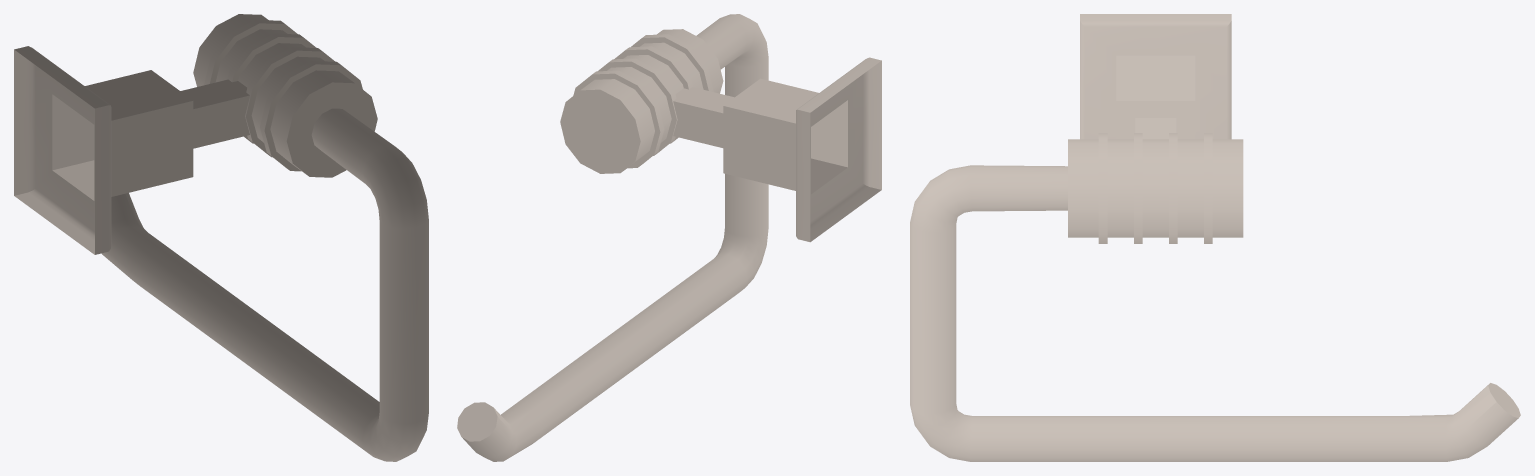
The model's file is ToiletPaperHanger_bcaf38db.obj.
The picture shows the model from 3 angles, left to right: view 1: azimuth 30°, elevation 25°; view 2: azimuth 150°, elevation 25°; view 3: azimuth 270°, elevation 25°; orthographic projection. The views are drawn at different scales.
Parts seen in each view (by area): view 1: toilet_paper_hanger_18_afd02618; view 2: toilet_paper_hanger_18_afd02618; view 3: toilet_paper_hanger_18_afd02618.
Boxes of the visible parts, x1,y1,x2,y2 form: toilet_paper_hanger_18_afd02618: (14,14,428,461); toilet_paper_hanger_18_afd02618: (457,14,881,461); toilet_paper_hanger_18_afd02618: (910,14,1520,461).
Size of the model in its own units: 0.1123 by 0.1378 by 0.2243.
